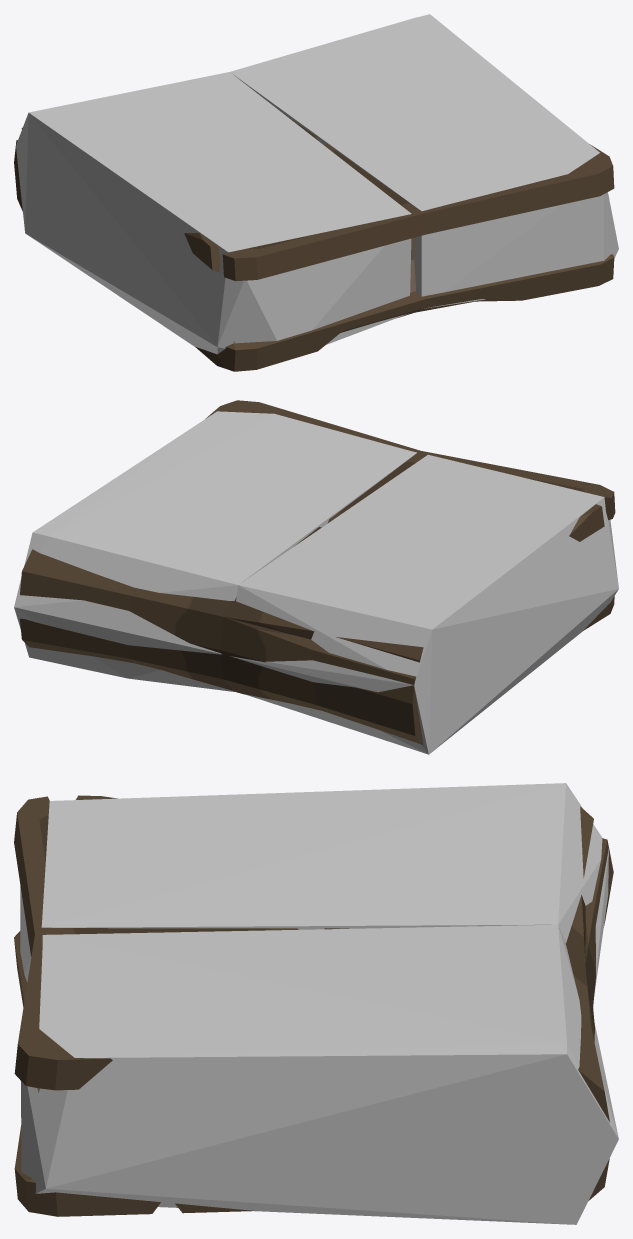
File: SM_Item_Spellbook_05.fbx
The picture shows the model from 3 angles, top to bottom: view 1: azimuth 30°, elevation 25°; view 2: azimuth 150°, elevation 25°; view 3: azimuth 270°, elevation 25°; orthographic projection. The views are drawn at different scales.
Visible parts, largest first — view 1: SM_Item_Spellbook_05_ConvexHulls, SM_Item_Spellbook_05; view 2: SM_Item_Spellbook_05_ConvexHulls, SM_Item_Spellbook_05; view 3: SM_Item_Spellbook_05_ConvexHulls, SM_Item_Spellbook_05.
Boxes of the visible parts, x1,y1,x2,y2 form: SM_Item_Spellbook_05_ConvexHulls: [16, 14, 618, 354]; SM_Item_Spellbook_05: [14, 116, 614, 371]; SM_Item_Spellbook_05_ConvexHulls: [14, 411, 618, 754]; SM_Item_Spellbook_05: [20, 400, 615, 745]; SM_Item_Spellbook_05_ConvexHulls: [20, 783, 618, 1224]; SM_Item_Spellbook_05: [14, 795, 613, 1216].
Size of the model in its own units: 28.8 by 27.11 by 8.44.
Materials: 2 (1 with a texture image).
